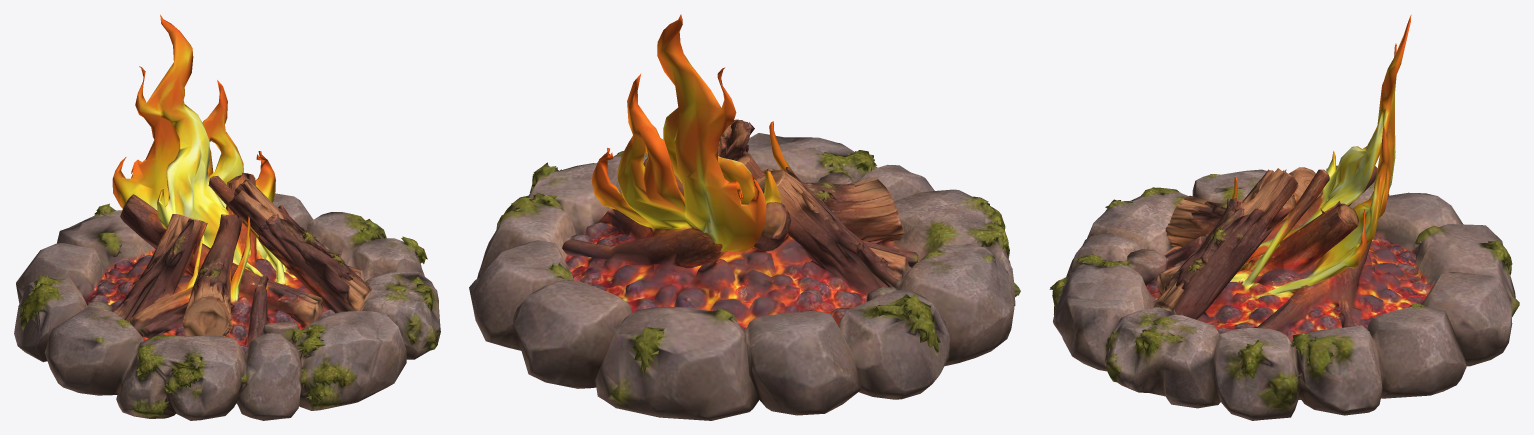
The model's file is campfire.glb.
3 views of the same model, side by side, from view 1: azimuth 30°, elevation 25°; view 2: azimuth 150°, elevation 25°; view 3: azimuth 270°, elevation 25° (orthographic). The views are drawn at different scales.
Parts seen in each view (by area): view 1: tripo_node_e9ea6b76-9401-484b-97b3-349e84046b67; view 2: tripo_node_e9ea6b76-9401-484b-97b3-349e84046b67; view 3: tripo_node_e9ea6b76-9401-484b-97b3-349e84046b67.
Part boxes in pixels (bbox=[...]): tripo_node_e9ea6b76-9401-484b-97b3-349e84046b67: bbox=[14, 14, 440, 420]; tripo_node_e9ea6b76-9401-484b-97b3-349e84046b67: bbox=[469, 14, 1020, 420]; tripo_node_e9ea6b76-9401-484b-97b3-349e84046b67: bbox=[1049, 14, 1519, 420].
Size of the model in its own units: 0.9788 by 0.7242 by 0.9714.
1 material, 1 textured.
